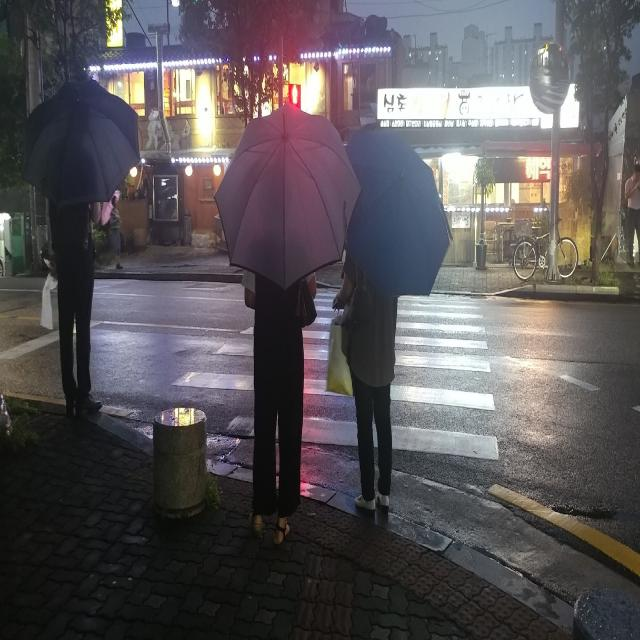빨간불: (288, 83, 301, 108)
횡단보도: (169, 290, 499, 463)
